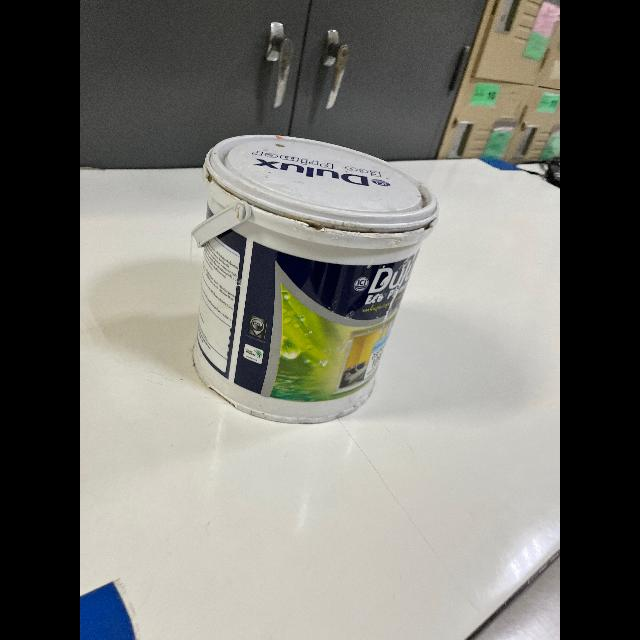paint_bucket: (180, 112, 440, 438)
